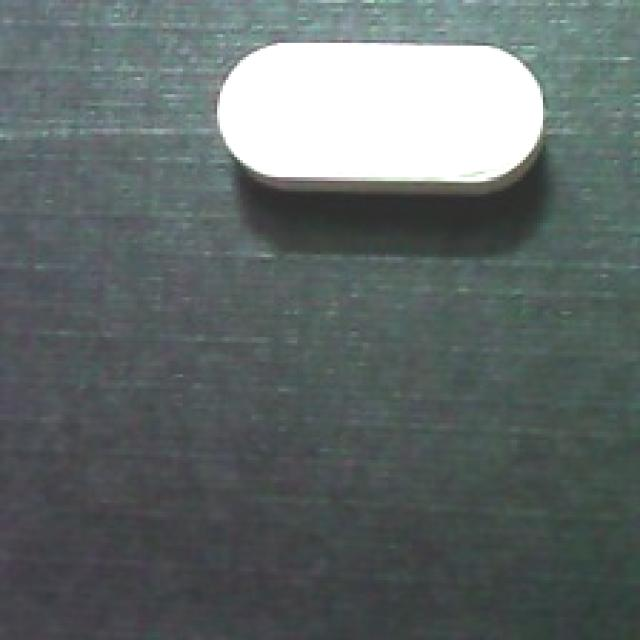no-defect: (214, 34, 554, 203)
